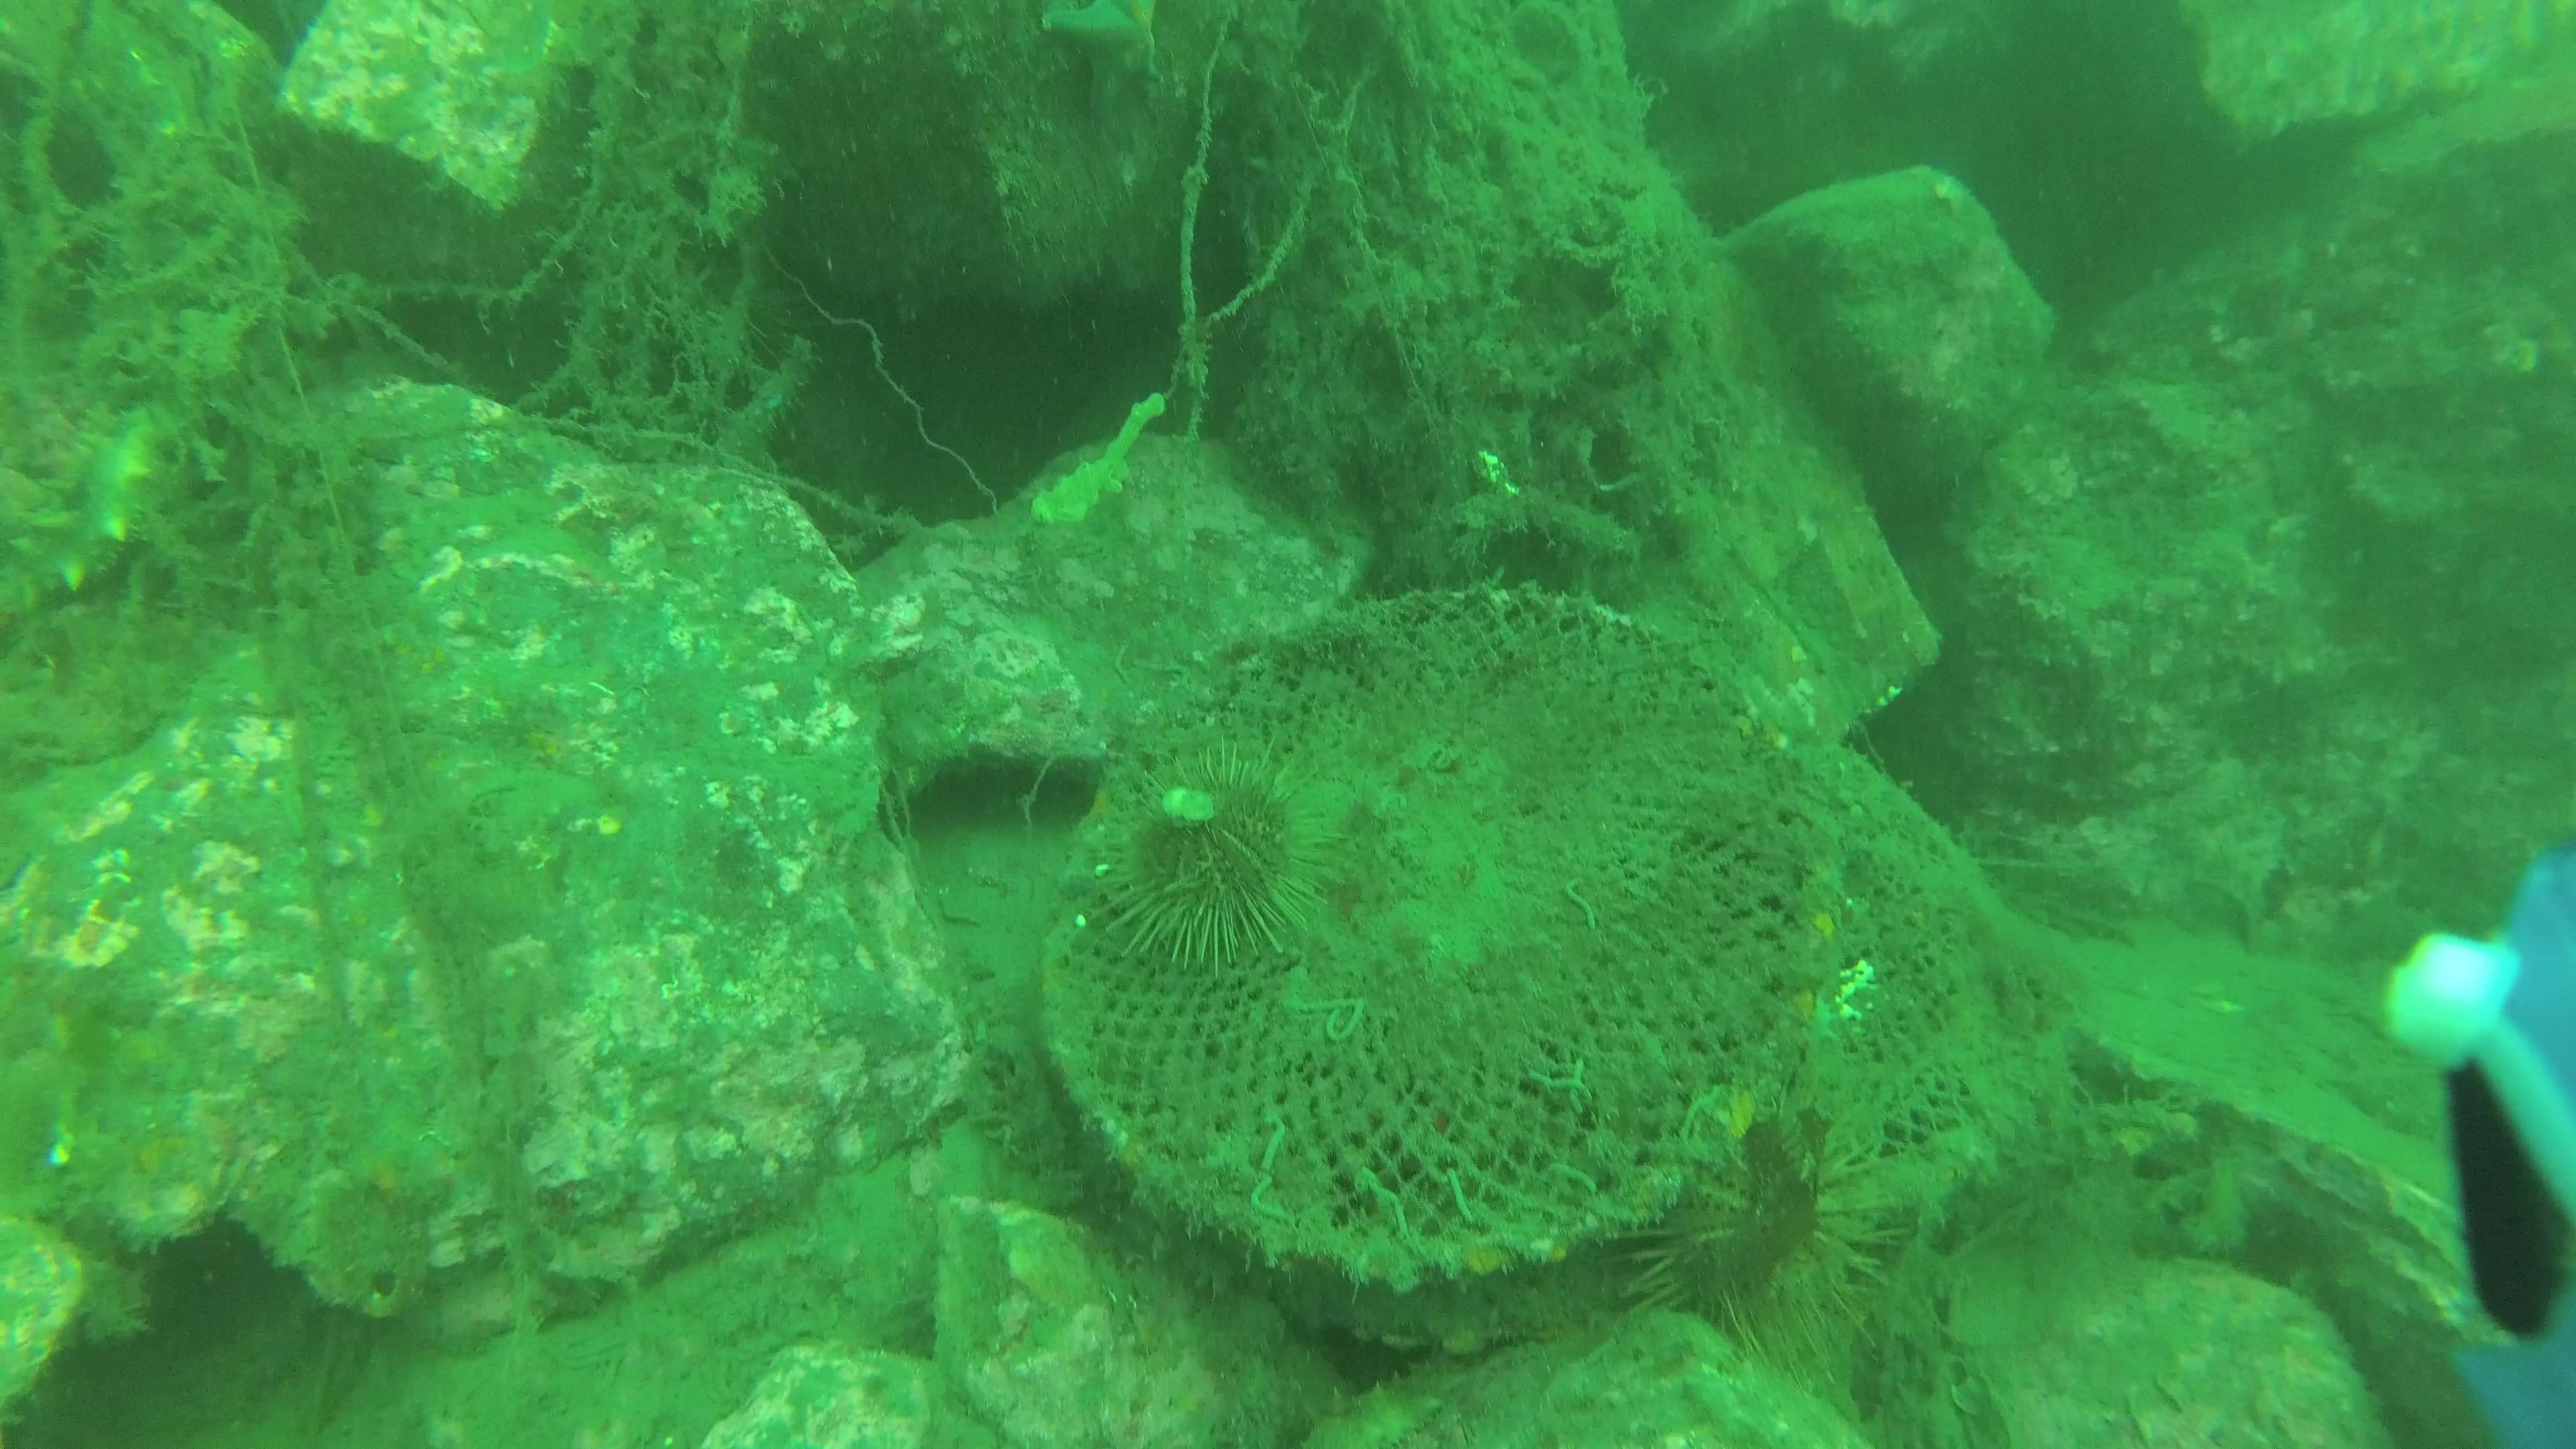echinus: (1605, 1104, 1921, 1394), (1090, 729, 1336, 980)
holothurian: (2, 405, 186, 605)
starfish: (1035, 0, 1169, 127)
